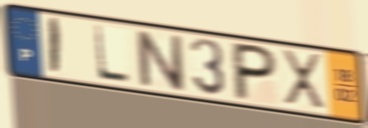3: (188, 37, 227, 98)
I: (48, 16, 63, 78)
L: (91, 23, 133, 87)
N: (132, 27, 189, 94)
P: (231, 40, 280, 103)
X: (280, 47, 328, 114)
